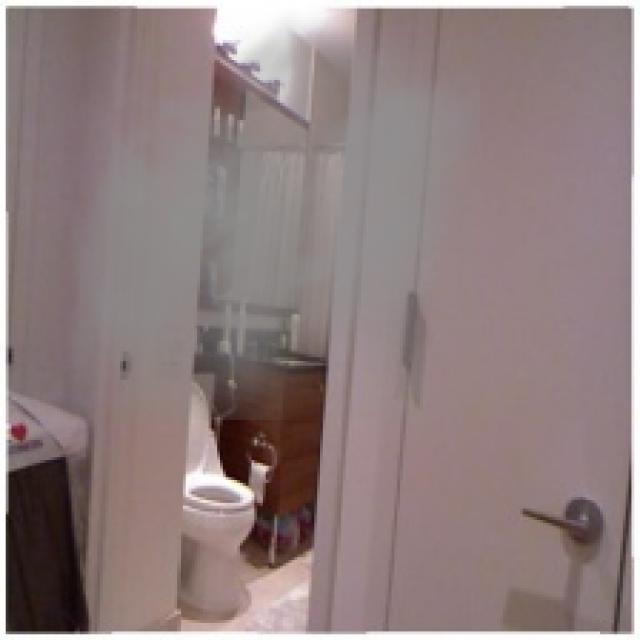Smoke: (66, 0, 480, 420)
